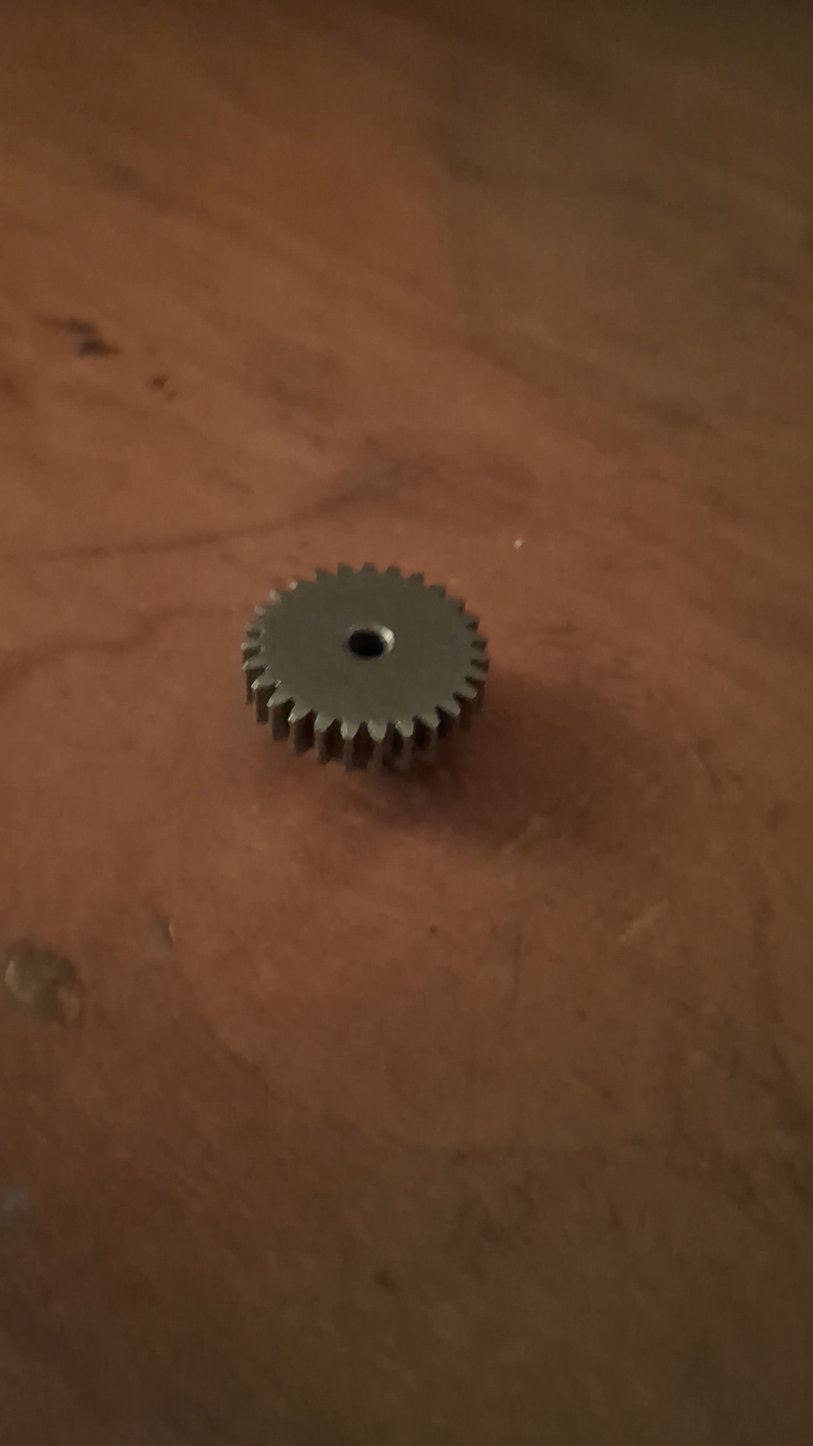spur gear: (243, 564, 488, 769)
